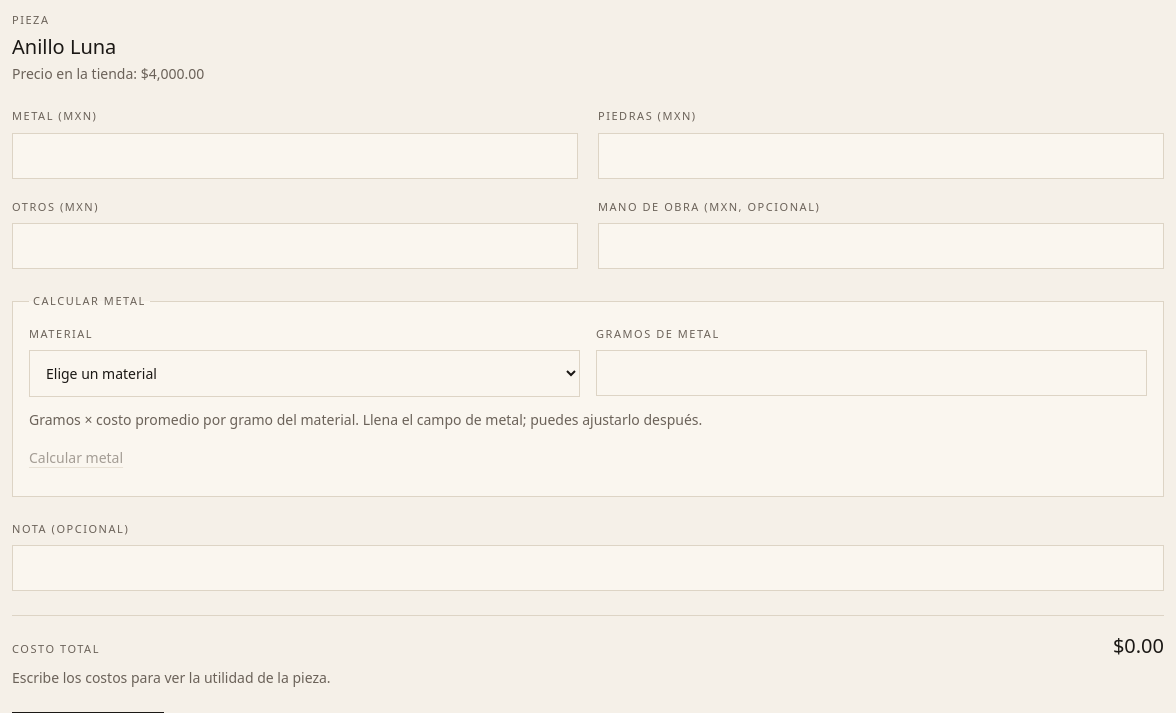
PieceCostForm: Calcular metal › is off until a material AND a valid number of grams are chosen
expect the button "Calcular metal" is disabled: met, box [29,436,123,480]
Select "Plata fina · $18.00 / g" in the dropdown labelled "Material" at (304,374), box [29,350,580,397]
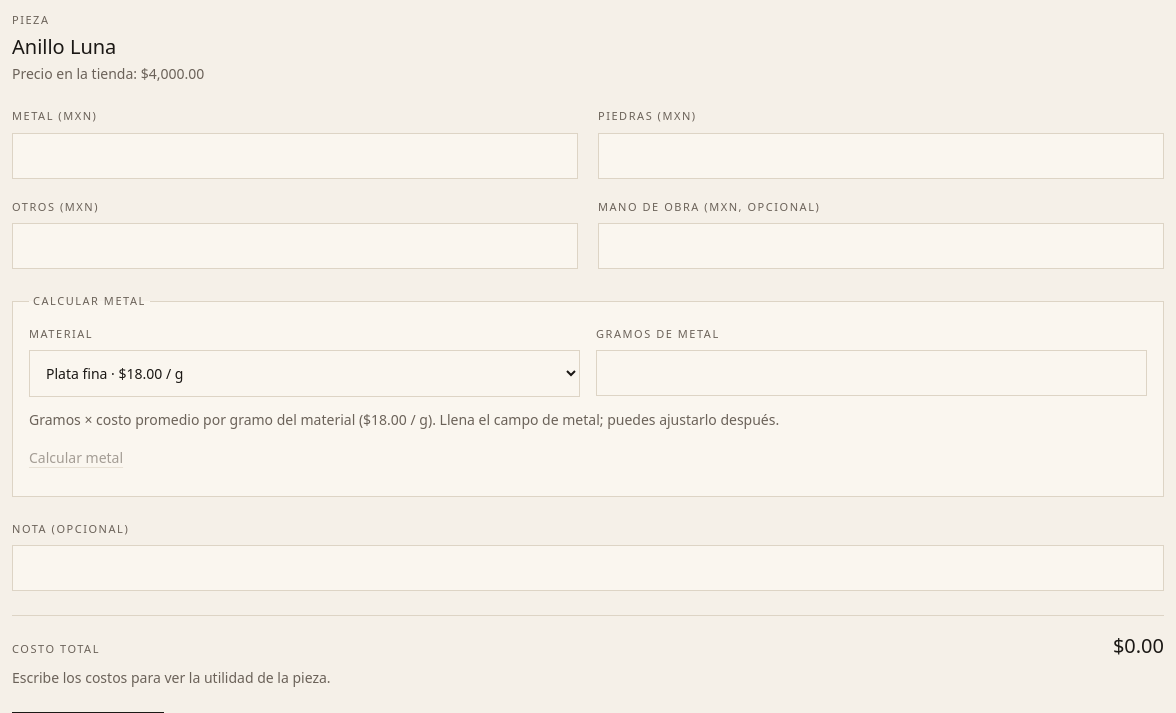
expect the button "Calcular metal" is disabled: met, box [29,436,123,480]
Type "0" into the number field labelled "Gramos de metal" at (872,373), box [596,350,1147,396]
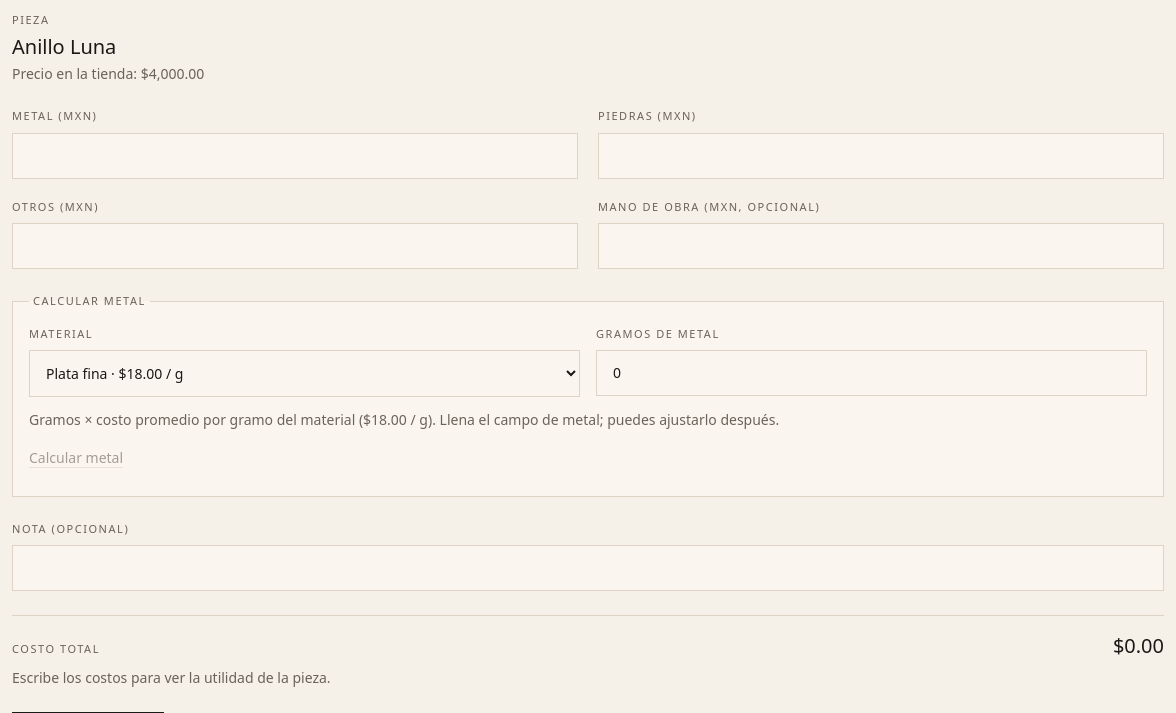
expect the button "Calcular metal" is disabled: met, box [29,436,123,480]
Replace the text in the number field labelled "Gramos de metal" with "12.5" at (872,373), box [596,350,1147,396]
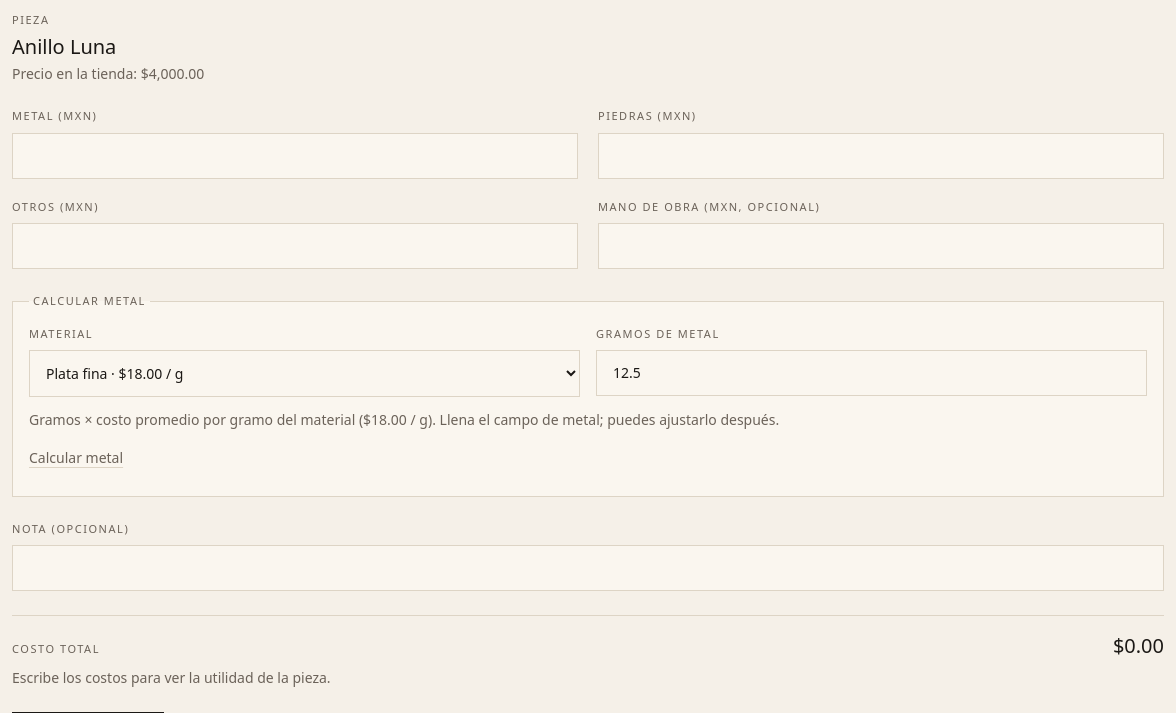
expect the button "Calcular metal" is enabled: met, box [29,436,123,480]
